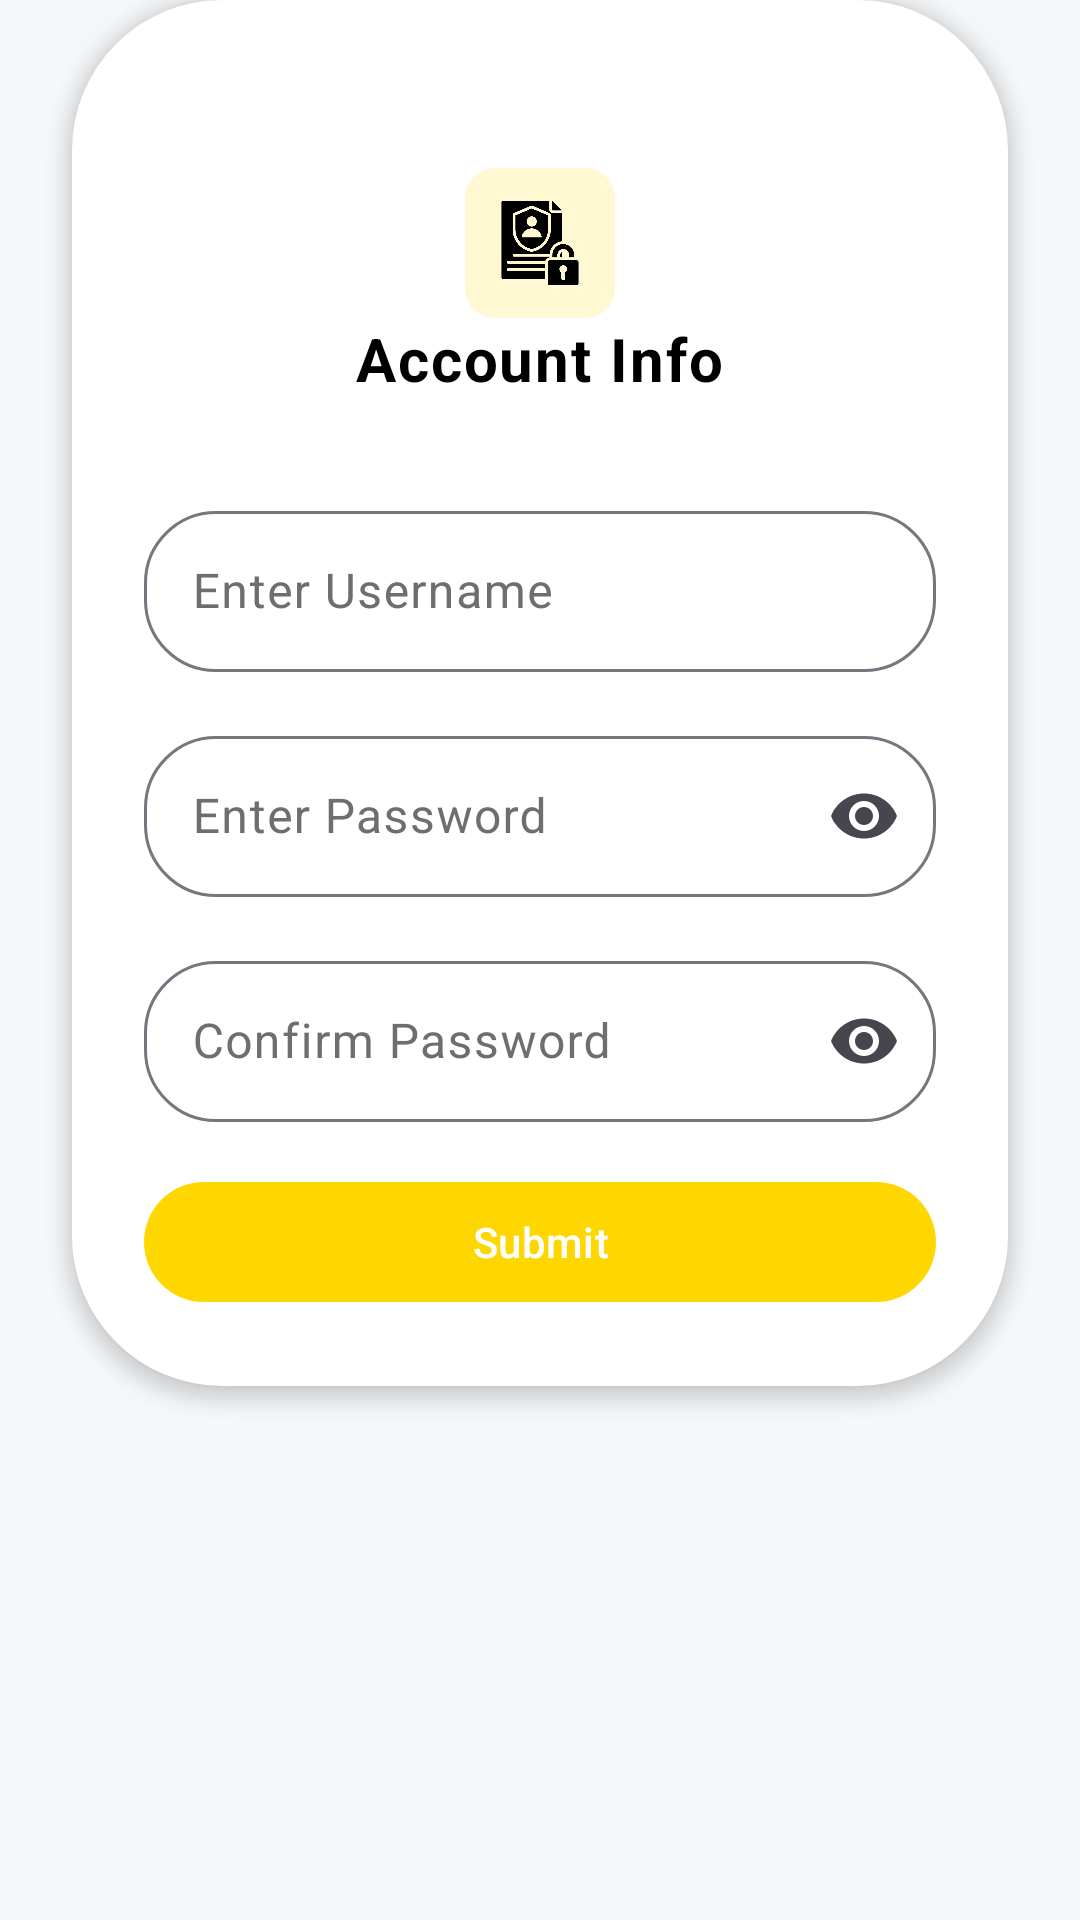

Where to tap for icons on this 1080px x 1920px app screen, as [x,y]:
customer registeration account: [540,243]
